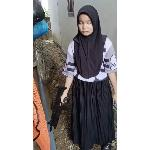Senapan: (46, 86, 72, 132)
